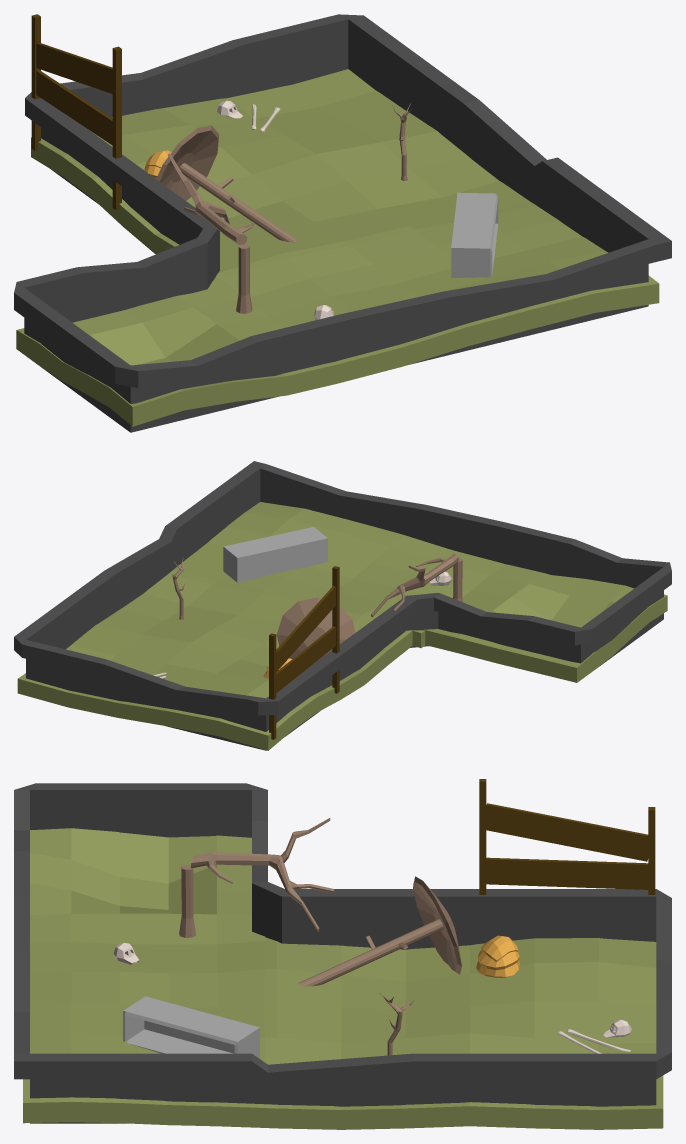
File: Giraffe_Level_0.fbx
The picture shows the model from 3 angles, top to bottom: view 1: azimuth 30°, elevation 25°; view 2: azimuth 150°, elevation 25°; view 3: azimuth 270°, elevation 25°; orthographic projection. The views are drawn at different scales.
Visible parts, largest first — view 1: Grass grass grass.004; view 2: Grass grass grass.004; view 3: Grass grass grass.004.
Part boxes in pixels (x1,y1,x2,y2): Grass grass grass.004: (14, 14, 671, 432); Grass grass grass.004: (14, 461, 671, 750); Grass grass grass.004: (14, 779, 671, 1129).
Bounding box in the file's own units: 3586 × 1135 × 3586.
